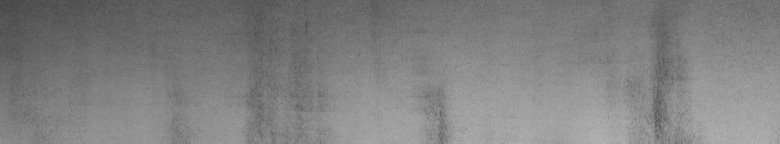ka: (644, 58, 680, 136)
